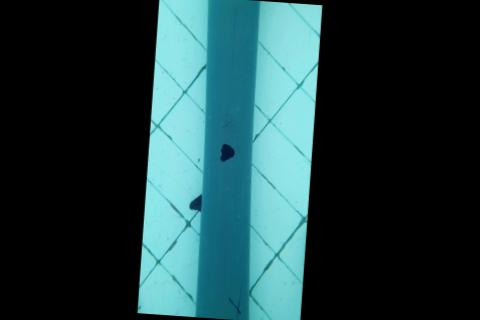kebocoran: (218, 142, 237, 165)
keretakan: (225, 283, 244, 320)
